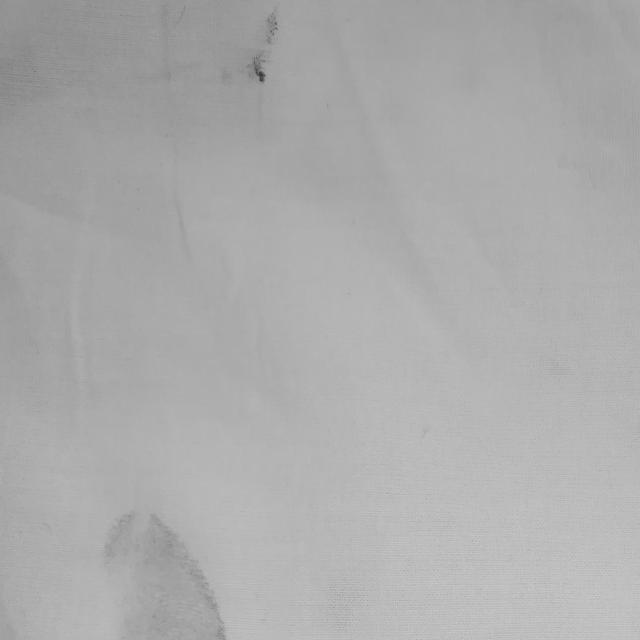Stain: (104, 512, 224, 640), (246, 7, 279, 82)
